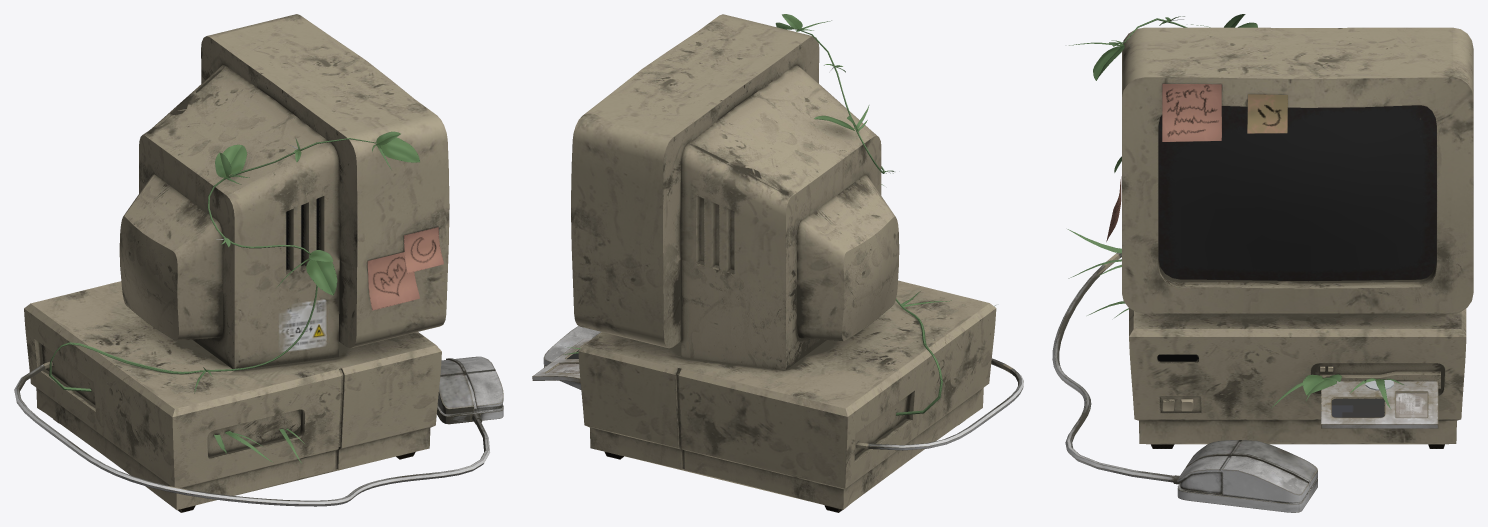
The model's file is old_pc.glb.
The picture shows the model from 3 angles, left to right: view 1: azimuth 30°, elevation 25°; view 2: azimuth 150°, elevation 25°; view 3: azimuth 270°, elevation 25°; orthographic projection. The views are drawn at different scales.
Parts seen in each view (by area): view 1: PC, HOJAS, NOTAS; view 2: PC, HOJAS, CD; view 3: PC, CD, NOTAS, HOJAS.
Part boxes in pixels (x1,y1,x2,y2): PC: [14, 14, 503, 512]; HOJAS: [49, 131, 419, 463]; NOTAS: [367, 227, 443, 310]; PC: [543, 14, 1023, 512]; HOJAS: [563, 14, 995, 415]; CD: [532, 338, 591, 382]; PC: [1052, 27, 1473, 512]; CD: [1321, 380, 1438, 428]; NOTAS: [1106, 83, 1287, 241]; HOJAS: [1067, 14, 1403, 408].
Bounding box in the file's own units: 0.7 × 0.5282 × 0.5197.
Materials: 2 (2 with a texture image).
